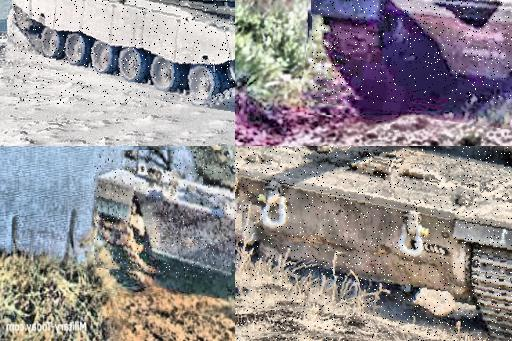tanks: (236, 147, 512, 341), (13, 1, 236, 106), (313, 1, 512, 104), (95, 151, 236, 278)
